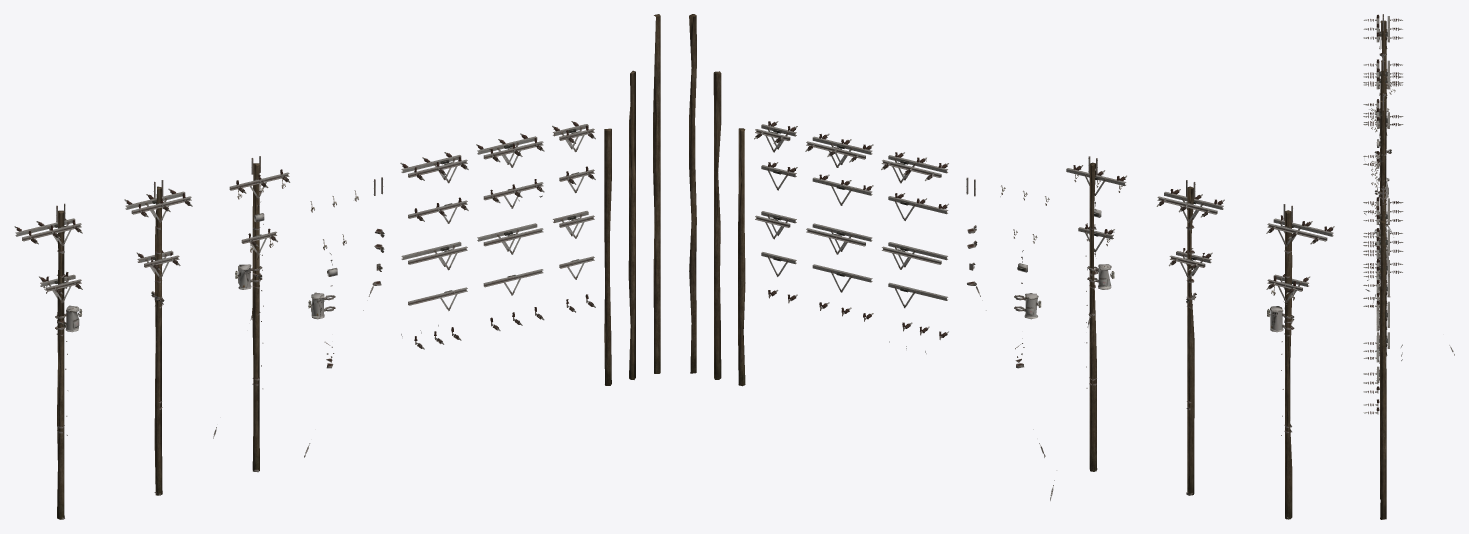
Rendered from modular_electricity_poles.glb.
3 views of the same model, side by side, from view 1: azimuth 30°, elevation 25°; view 2: azimuth 150°, elevation 25°; view 3: azimuth 270°, elevation 25° (orthographic). The views are drawn at different scales.
Parts seen in each view (by area): view 1: bolt_large, pole; view 2: bolt_large, pole; view 3: bolt_large, pole.
Boxes of the visible parts, x1=… form: bolt_large: x1=14, y1=121, x2=595, y2=519; pole: x1=57, y1=14, x2=660, y2=519; bolt_large: x1=754, y1=121, x2=1334, y2=519; pole: x1=689, y1=14, x2=1292, y2=519; bolt_large: x1=1363, y1=14, x2=1454, y2=414; pole: x1=1380, y1=20, x2=1386, y2=519.
Size of the model in its own units: 13.11 by 7 by 1.94.
2 materials, 2 textured.
